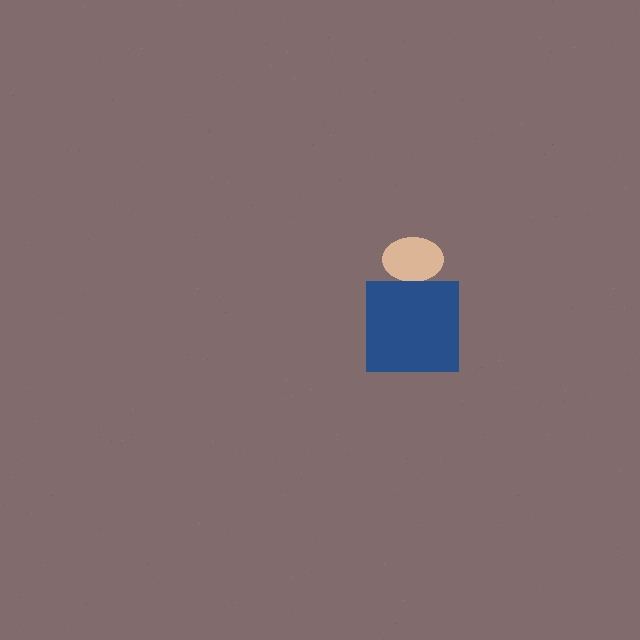person: (321, 237, 504, 371)
